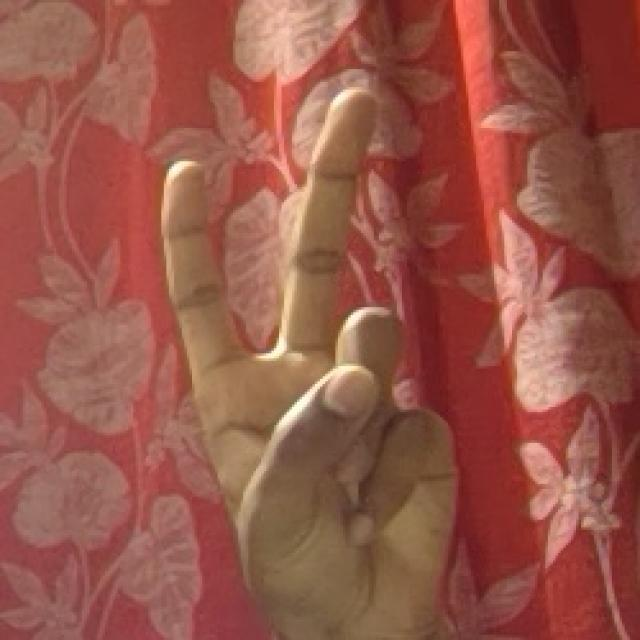Numeric-2: (157, 81, 466, 630)
